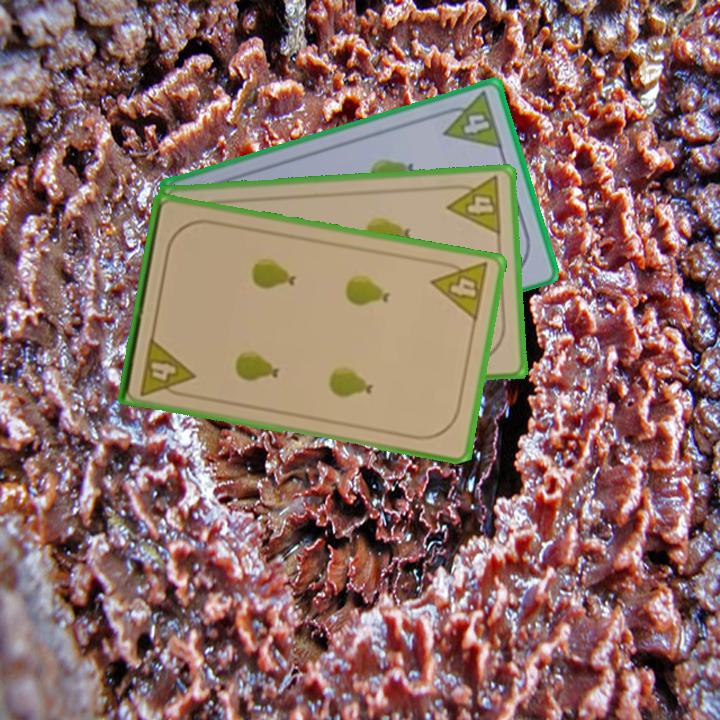4p: (434, 88, 506, 152), (428, 256, 491, 324), (136, 333, 197, 400), (443, 173, 505, 238)
